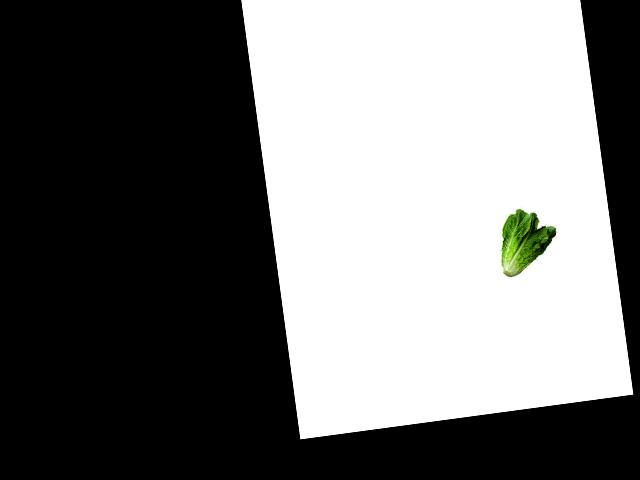lettuce: (489, 204, 564, 282)
